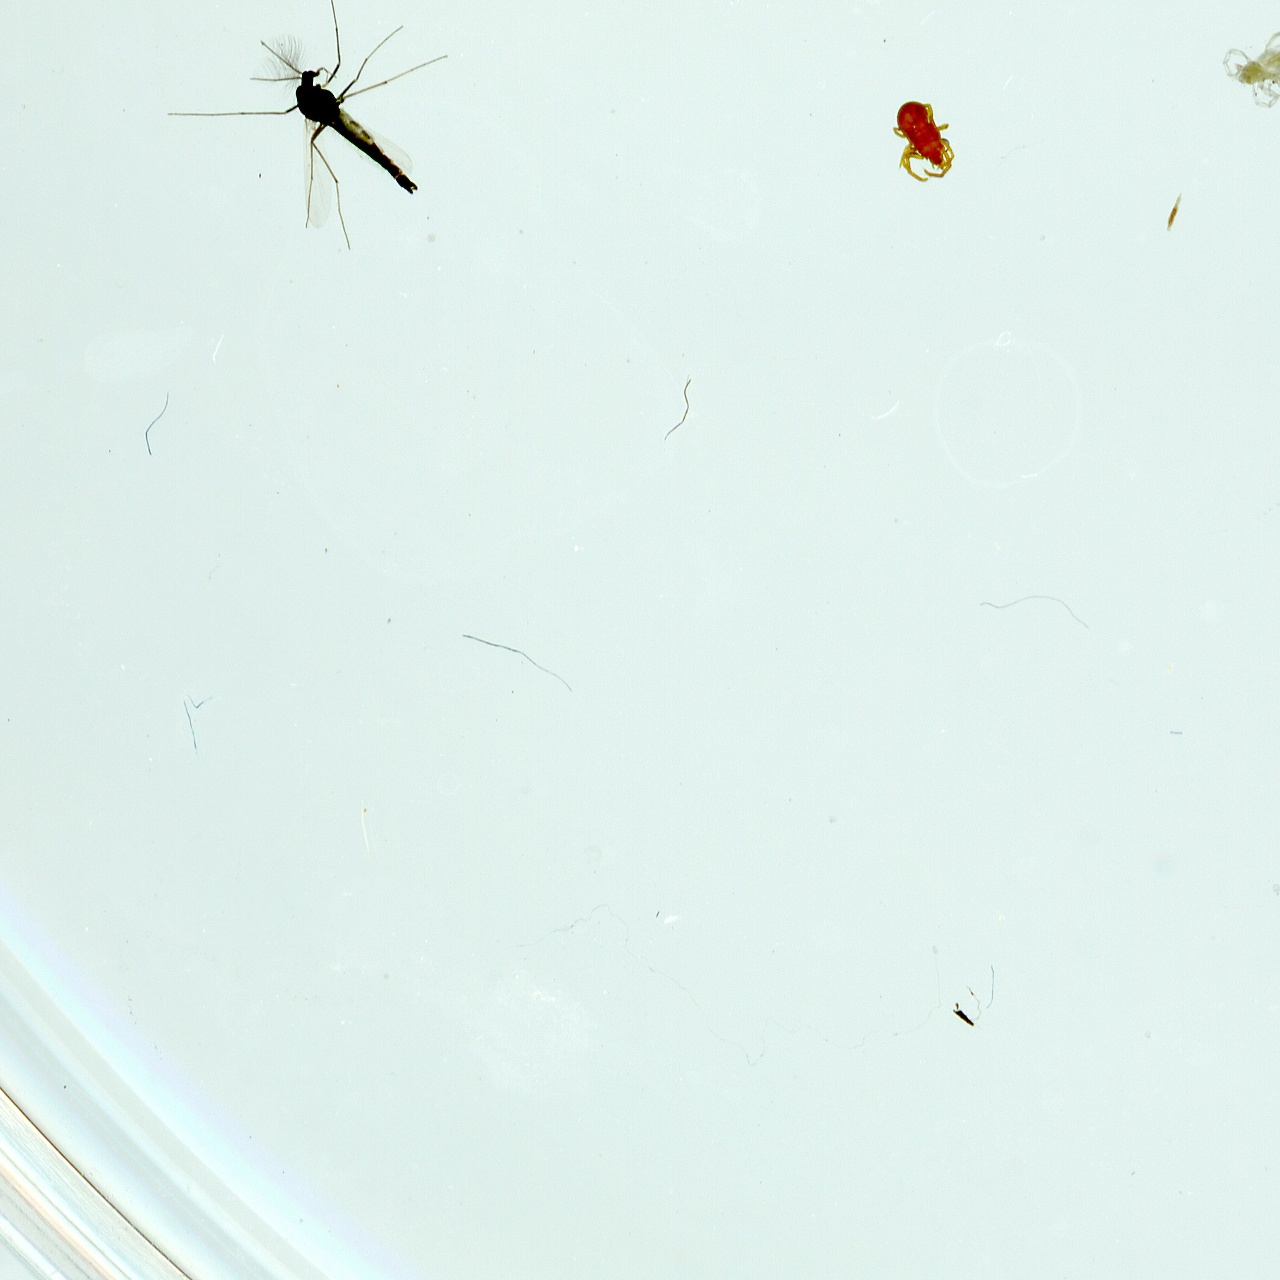arthropod: (155, 0, 509, 278), (887, 97, 959, 184), (1220, 21, 1280, 113)
